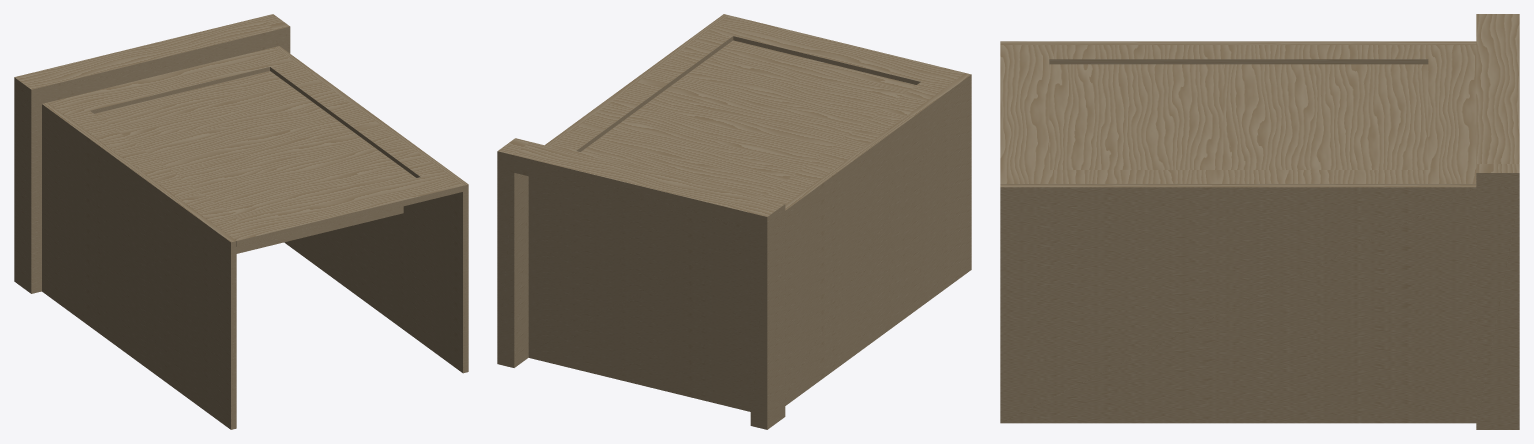
3 views of the same model, side by side, from view 1: azimuth 30°, elevation 25°; view 2: azimuth 150°, elevation 25°; view 3: azimuth 270°, elevation 25° (orthographic). The views are drawn at different scales.
Parts seen in each view (by area): view 1: Cube.003; view 2: Cube.003; view 3: Cube.003.
Part boxes in pixels (bbox=[...]): Cube.003: bbox=[14, 14, 468, 429]; Cube.003: bbox=[497, 14, 971, 429]; Cube.003: bbox=[1000, 14, 1519, 429].
Bounding box in the file's own units: 86.72 × 65.35 × 120.
